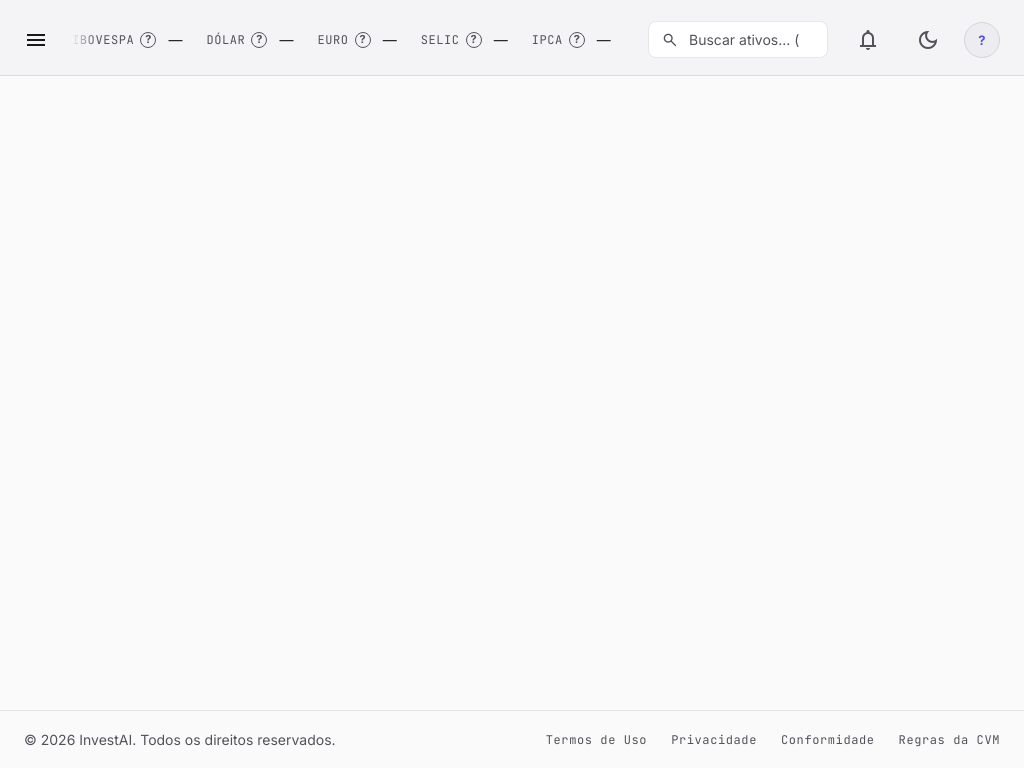
Scenario: AppShellComponent › deve fechar o menu ao clicar fora dele
Click the button with class "header__avatar": (982, 40) [964,22,1000,58]
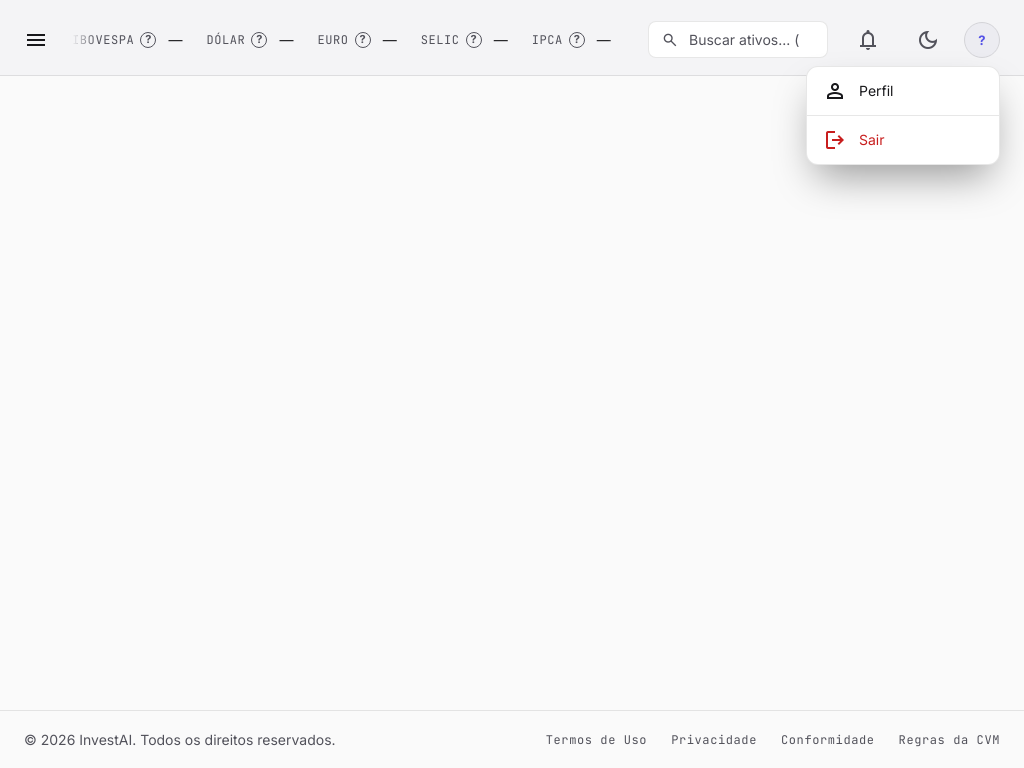
expect the element with class "header__dropdown" is shown: met, box [806,66,1000,164]
Click the element that starts with "Pular para o conteúdo": (512, 384) [0,0,1023,767]
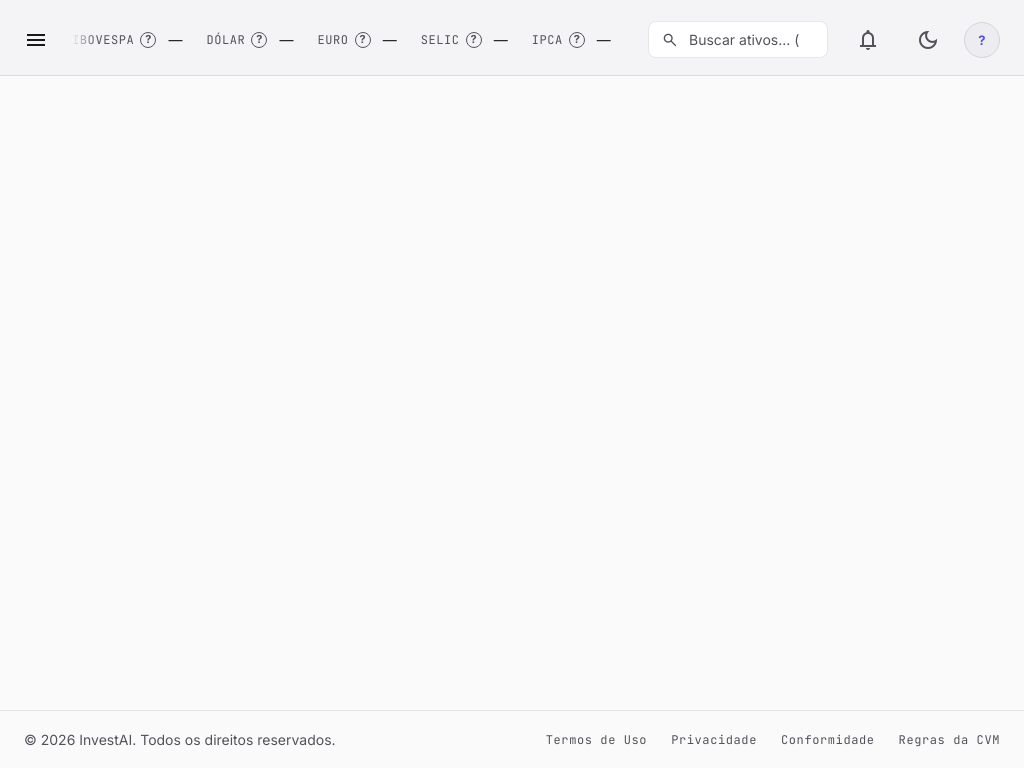
expect the element with class "header__dropdown" is gone: met
